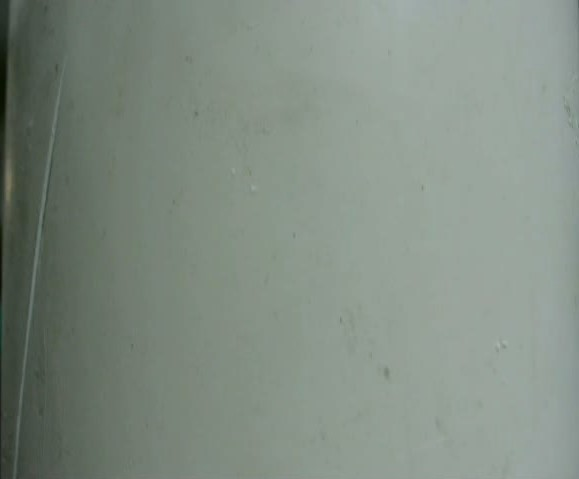sunshang: (9, 60, 85, 477)
